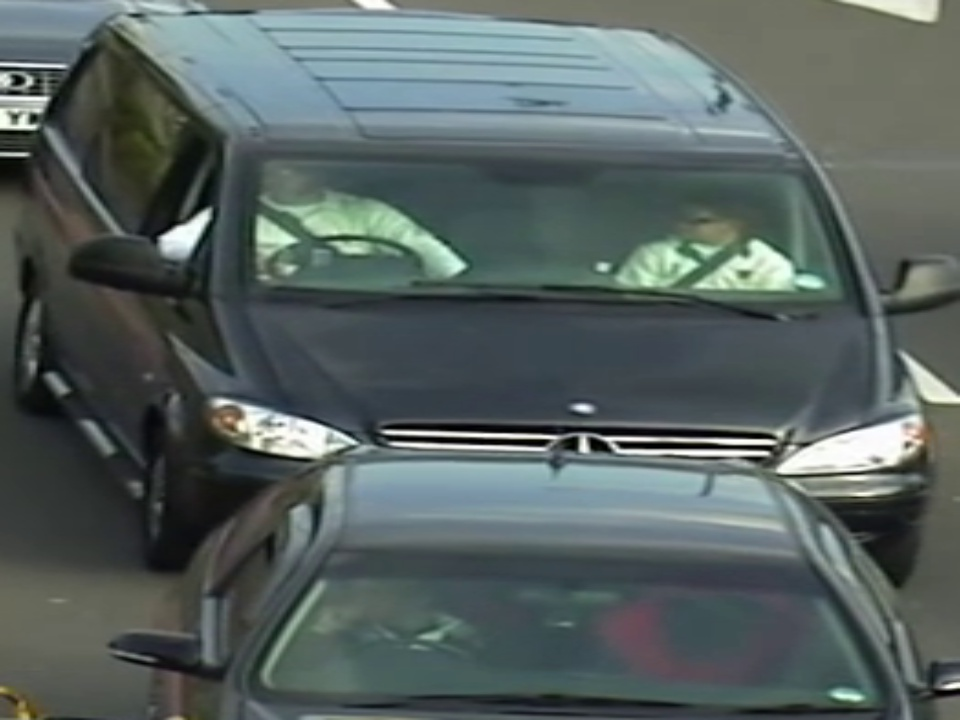TWO: (246, 146, 860, 310)
